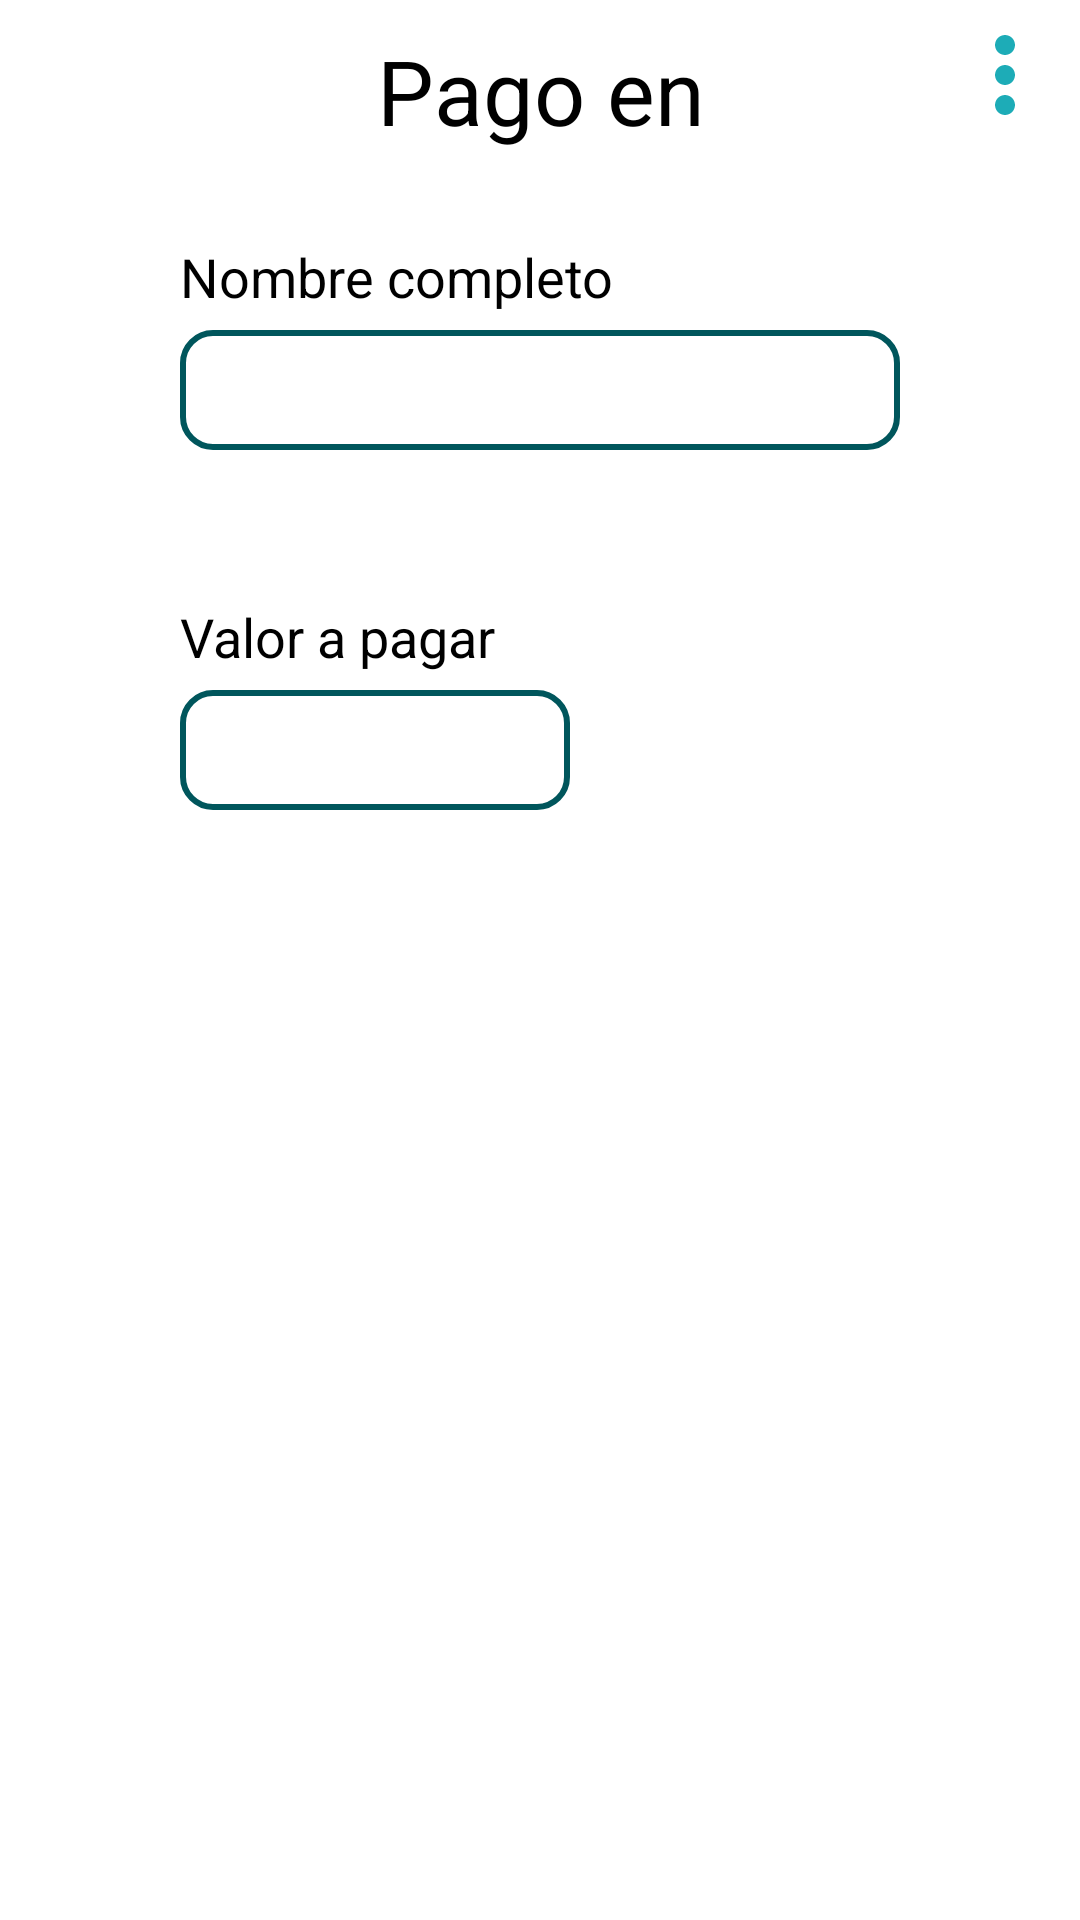

Screen size 1080px×1920px. Icon name, then its box in pixels as (x1, y1, x2, y2):
points: (995, 35, 1015, 115)
